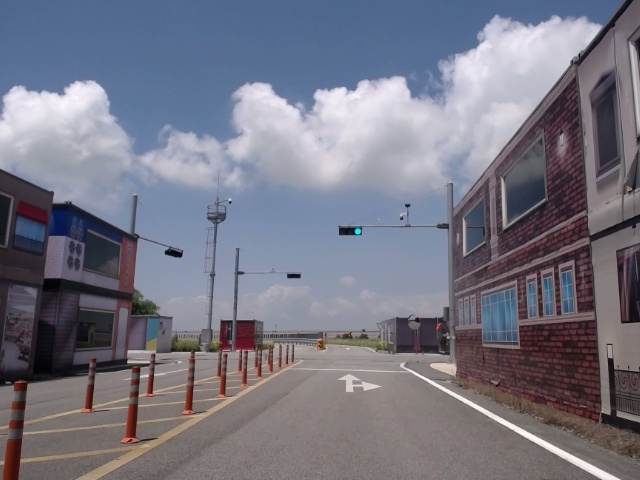green_3: (339, 227, 361, 234)
